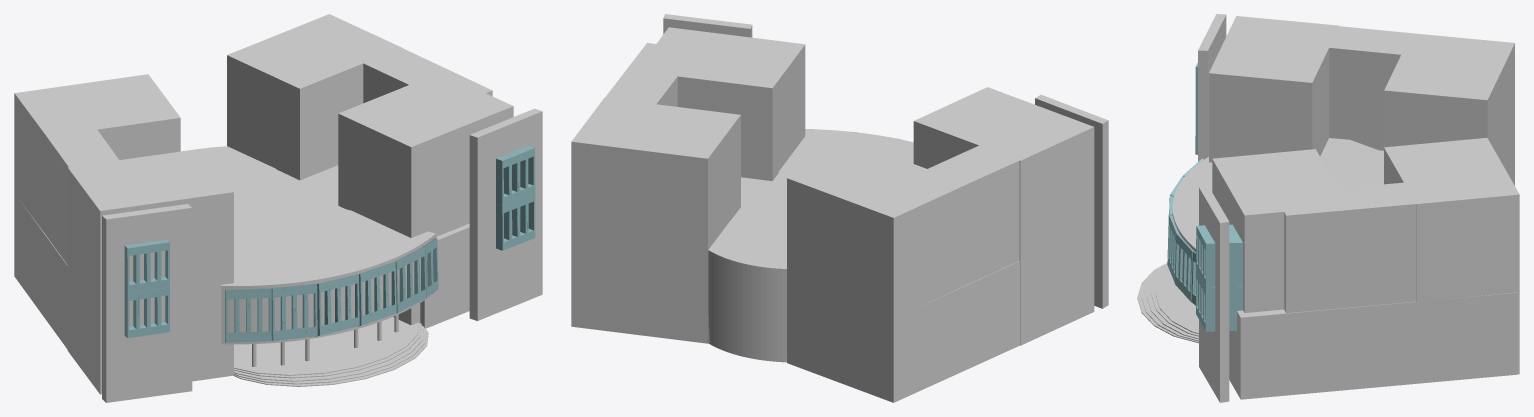
File: hssb_glb.glb
3 views of the same model, side by side, from view 1: azimuth 30°, elevation 25°; view 2: azimuth 150°, elevation 25°; view 3: azimuth 270°, elevation 25° (orthographic). The views are drawn at different scales.
Parts seen in each view (by area): view 1: Mesh_Mesh_head_geo.001_lambert2SG.001; view 2: Mesh_Mesh_head_geo.001_lambert2SG.001; view 3: Mesh_Mesh_head_geo.001_lambert2SG.001.
Part boxes in pixels (x1,y1,x2,y2): Mesh_Mesh_head_geo.001_lambert2SG.001: (14,14,542,402); Mesh_Mesh_head_geo.001_lambert2SG.001: (571,14,1108,402); Mesh_Mesh_head_geo.001_lambert2SG.001: (1137,14,1519,402).
Bounding box in the file's own units: 115 × 46 × 88.77.
